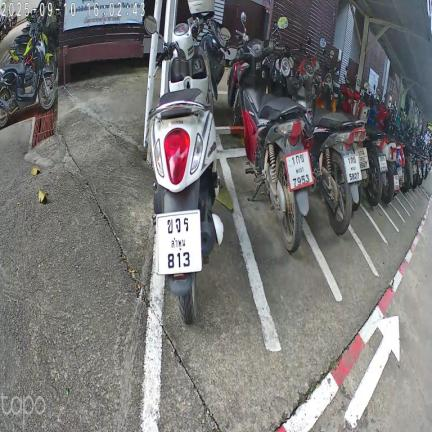1: (176, 252, 183, 268), (291, 156, 296, 166)
3: (183, 252, 191, 268)
7: (292, 178, 296, 188)
8: (167, 252, 175, 269)
9: (297, 176, 302, 186), (301, 174, 306, 184)
A01: (296, 155, 300, 164)
A02: (166, 219, 174, 234), (300, 154, 305, 162)
A08: (174, 218, 182, 233)
A35: (183, 217, 190, 232)
LPN: (170, 237, 187, 251)
PTE: (295, 166, 305, 174)
